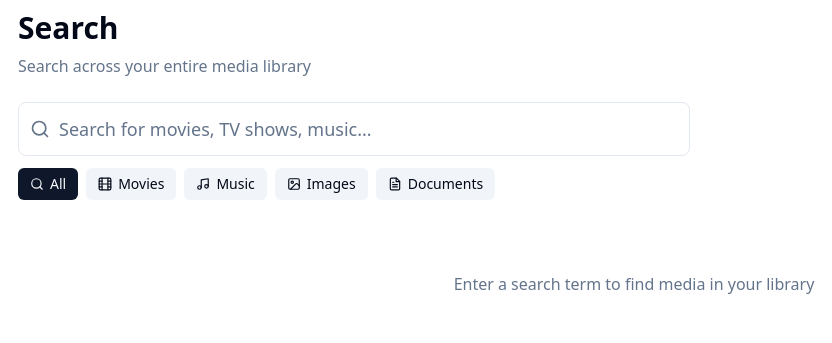
SearchPage › shows no results message when search returns empty
This screenshot has width=832, height=343.
Type "nonexistent" into the field with placeholder "Search for movies, TV shows, music...".
click(354, 129); type("nonexistent")  # box [18,102,690,156]
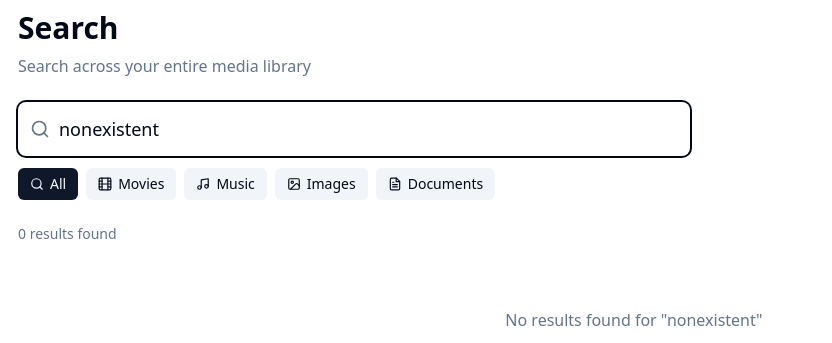
Check: the text "0 results found" is shown, box [18,224,117,243]
